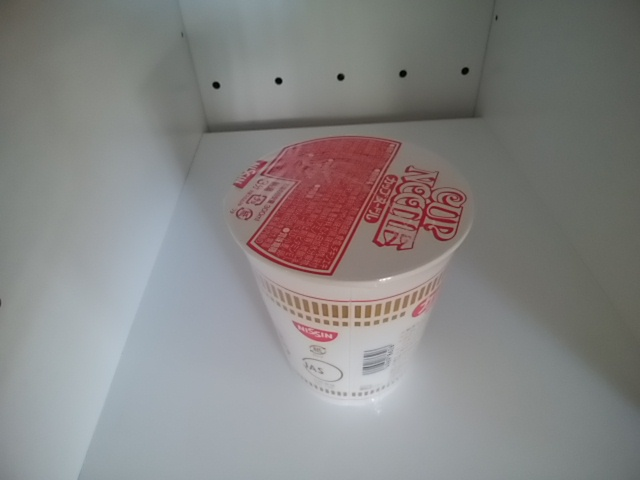cup-ramen: (222, 134, 483, 412)
